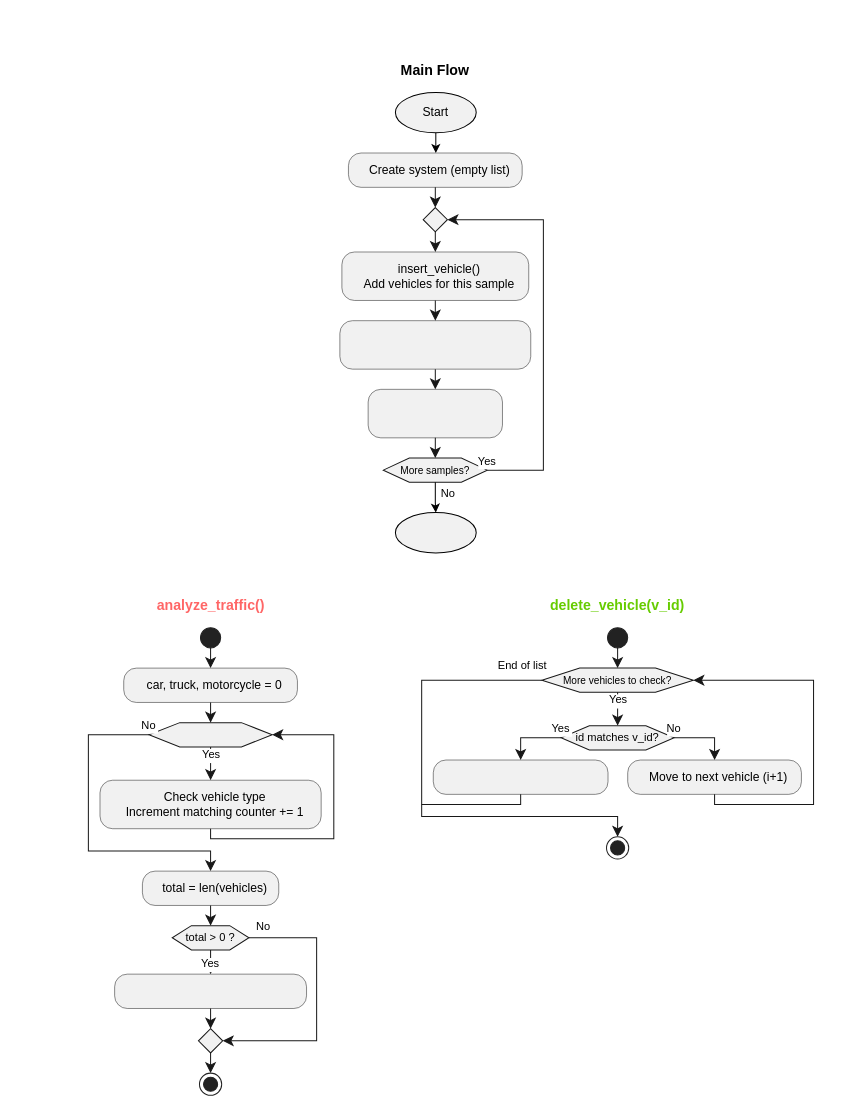
This 841x1113 diagram has some shape labels left out. Here are the shapes that lost their labels. From the top down, the box of each, then its label:
(339, 320, 531, 369): analyze_traffic() Count and show percentages
(367, 389, 502, 438): delete_vehicle() Remove all vehicles
(394, 512, 476, 553): End
(148, 722, 272, 747): More vehicles left?
(433, 759, 608, 794): pop(i) Remove this vehicle
(114, 973, 306, 1008): Print counts and percentages
